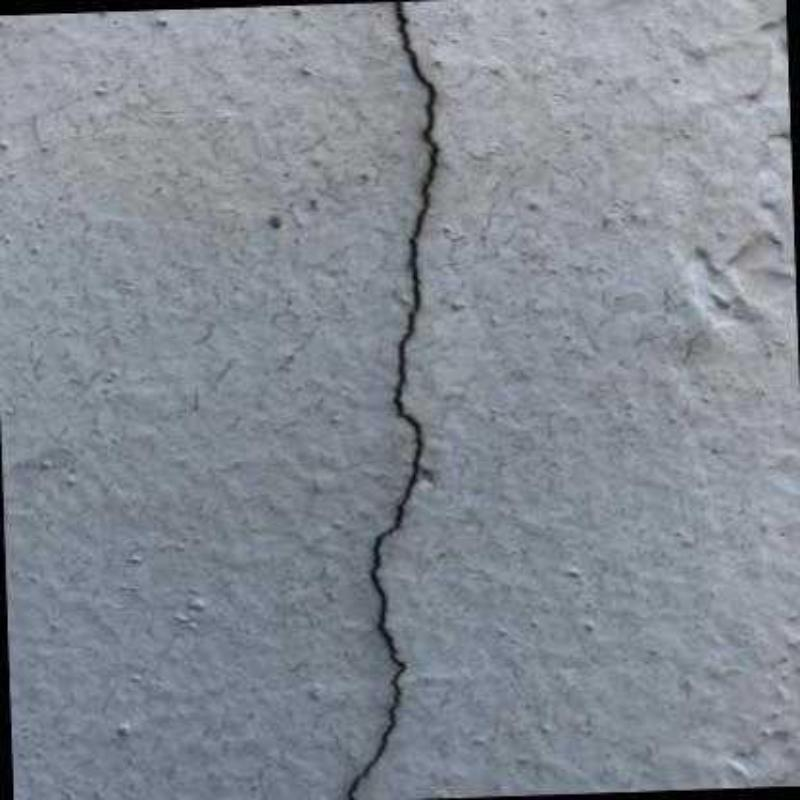pothole: (343, 0, 441, 800)
